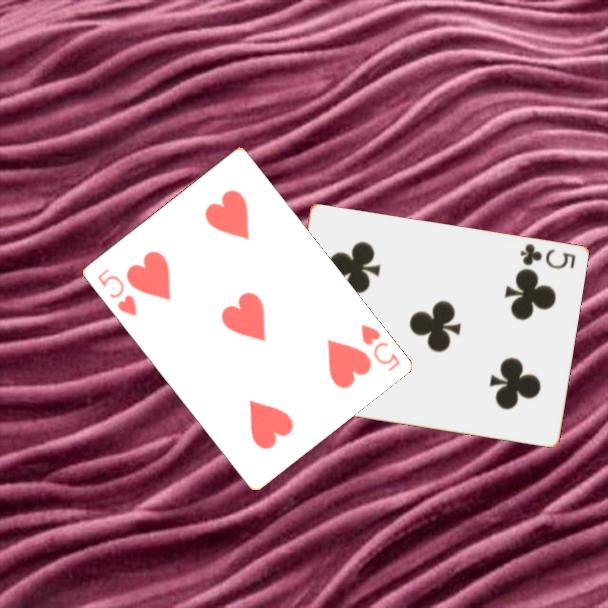c05: (516, 240, 578, 272)
h05: (93, 265, 140, 319), (357, 320, 403, 374)
